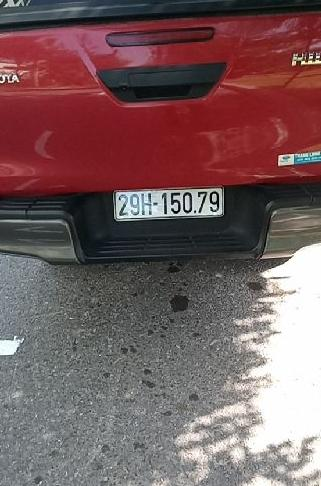Plate-iWeP: (109, 185, 227, 227)
